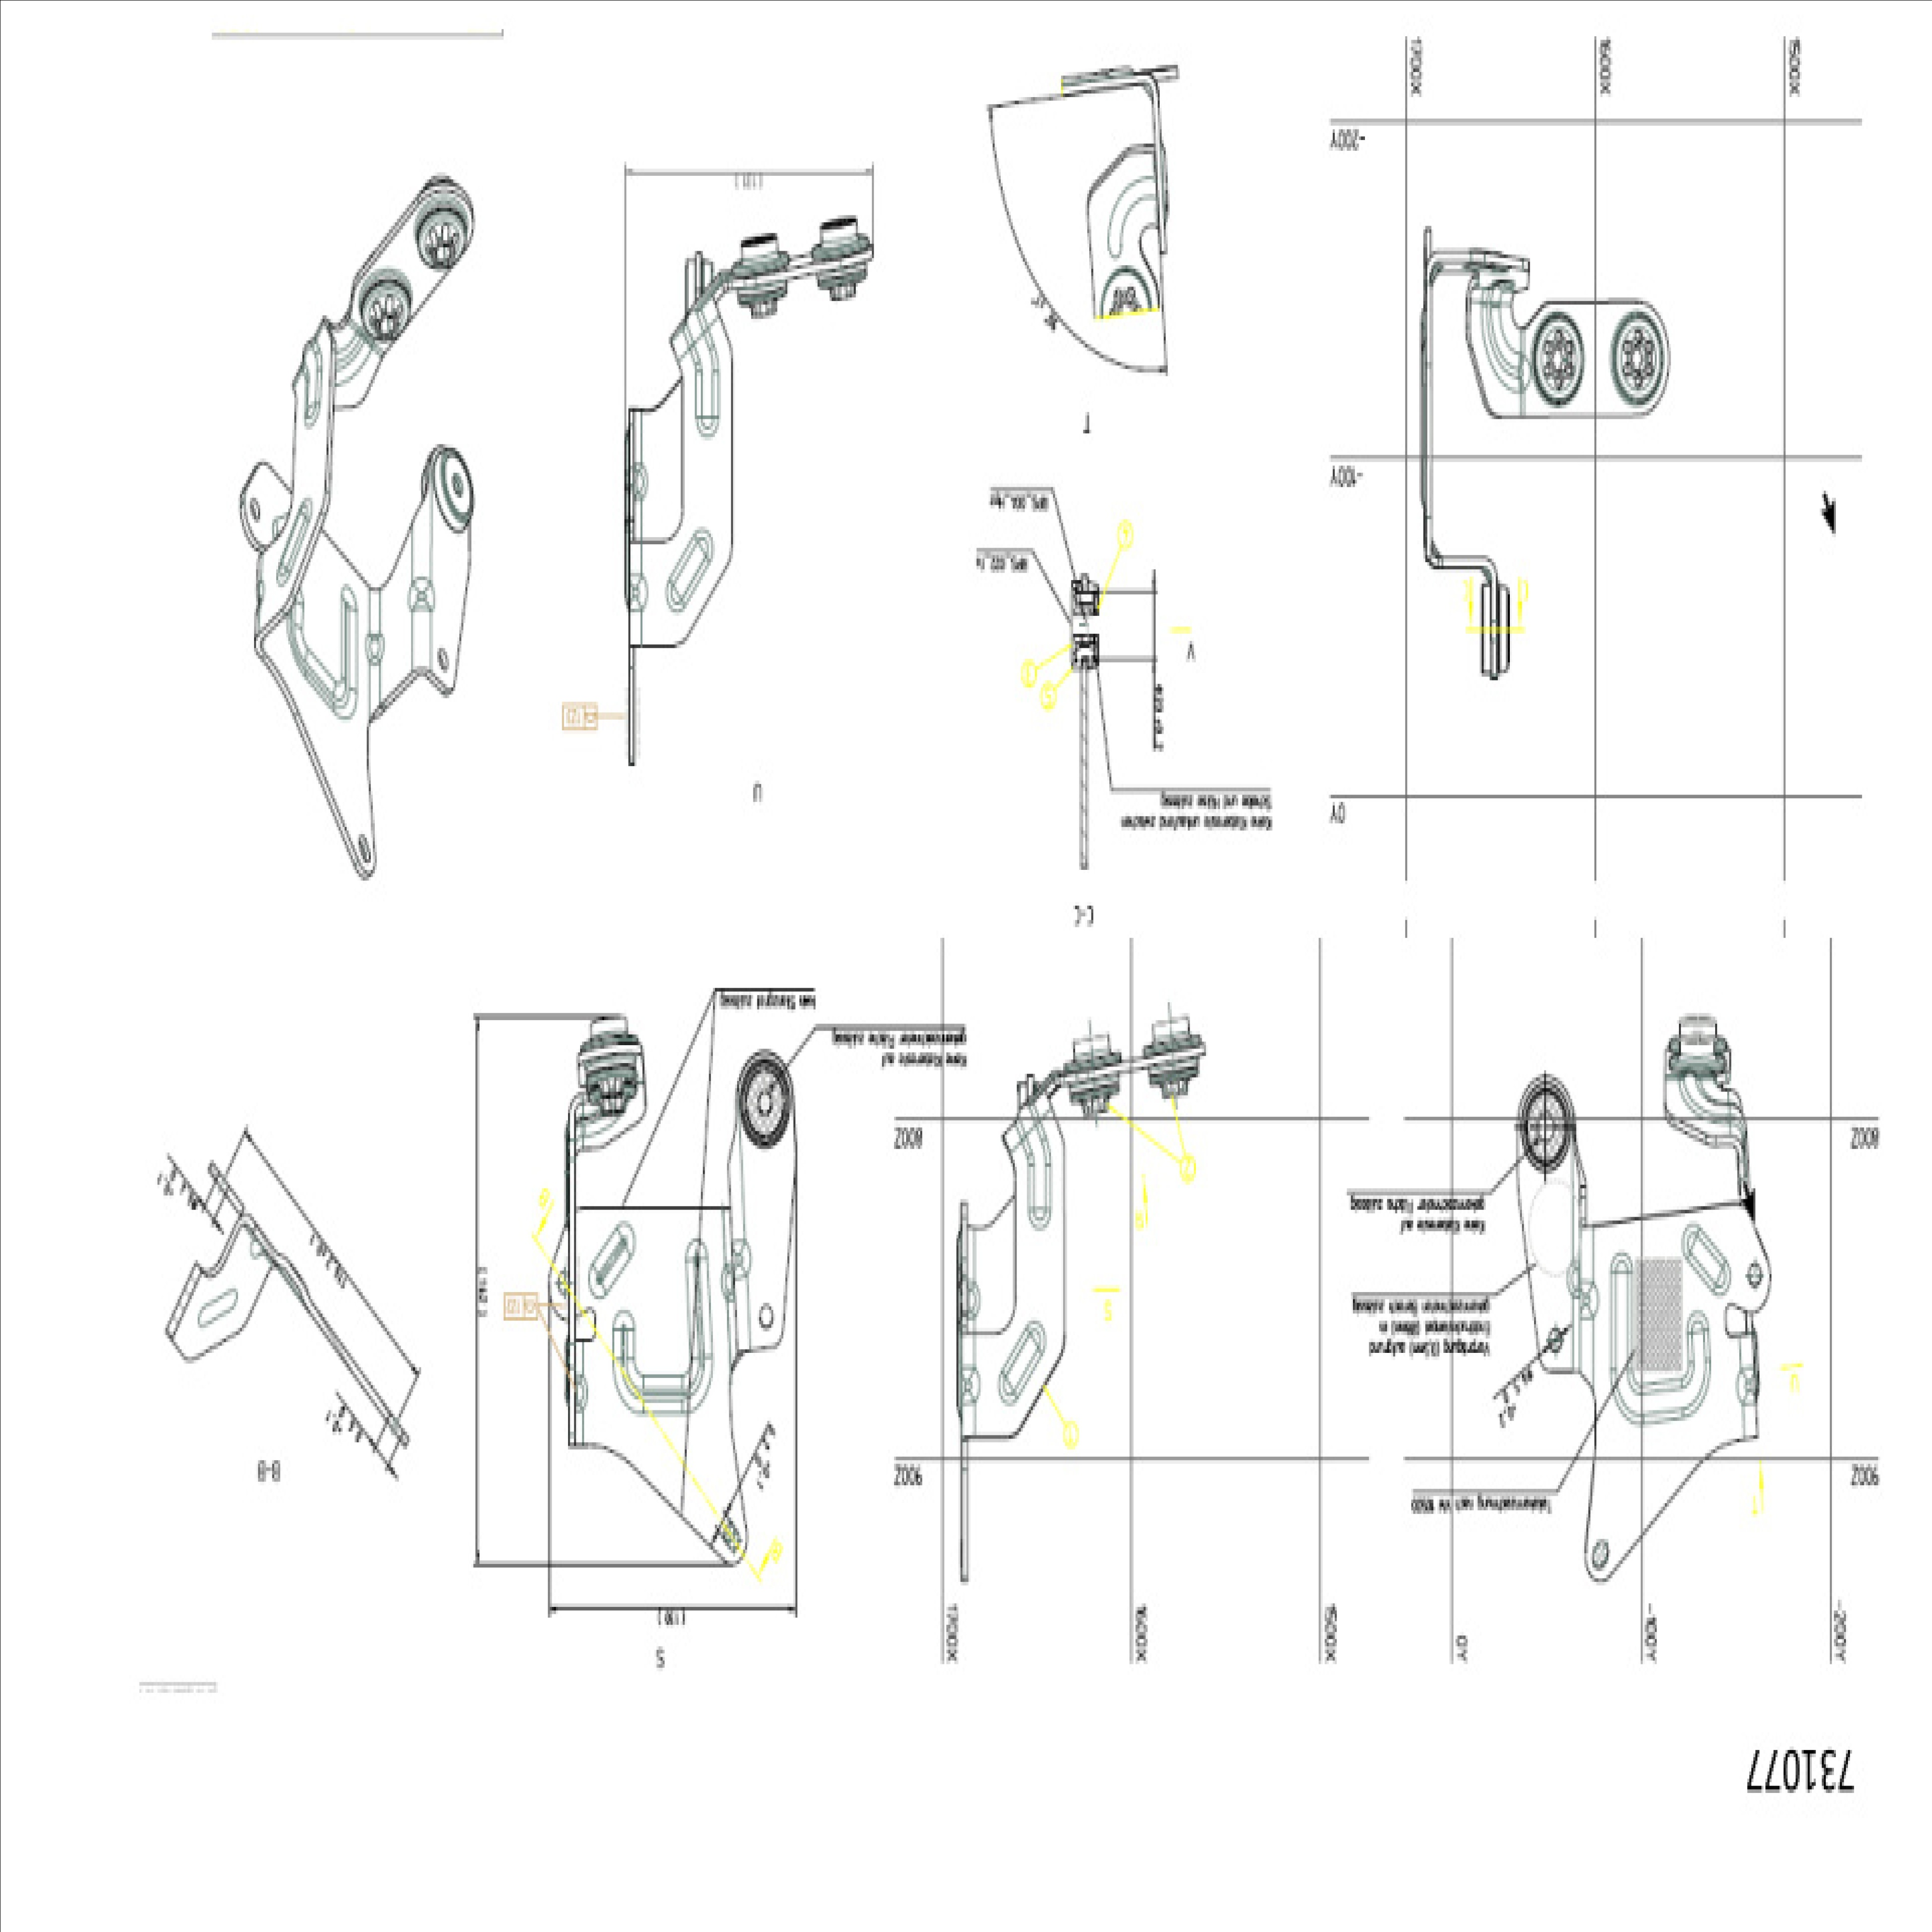Embossment: (1534, 1223, 1760, 1461), (603, 1230, 724, 1422), (665, 315, 734, 451), (1005, 1113, 1067, 1238), (573, 1210, 651, 1309), (987, 1309, 1060, 1415), (1663, 1212, 1752, 1299), (653, 522, 725, 623), (267, 490, 326, 598)
InnerContour: (1592, 1539, 1610, 1571), (757, 1302, 775, 1332), (1546, 1327, 1568, 1350), (757, 1092, 775, 1118), (1746, 1261, 1762, 1286)
Reinforcement: (405, 575, 437, 614), (732, 1233, 755, 1284), (959, 1362, 984, 1405), (1582, 1277, 1603, 1320), (361, 632, 386, 667), (628, 573, 649, 612), (630, 460, 649, 501), (1566, 1256, 1582, 1304), (1737, 1368, 1757, 1405), (968, 1277, 982, 1320), (722, 1265, 732, 1302)
